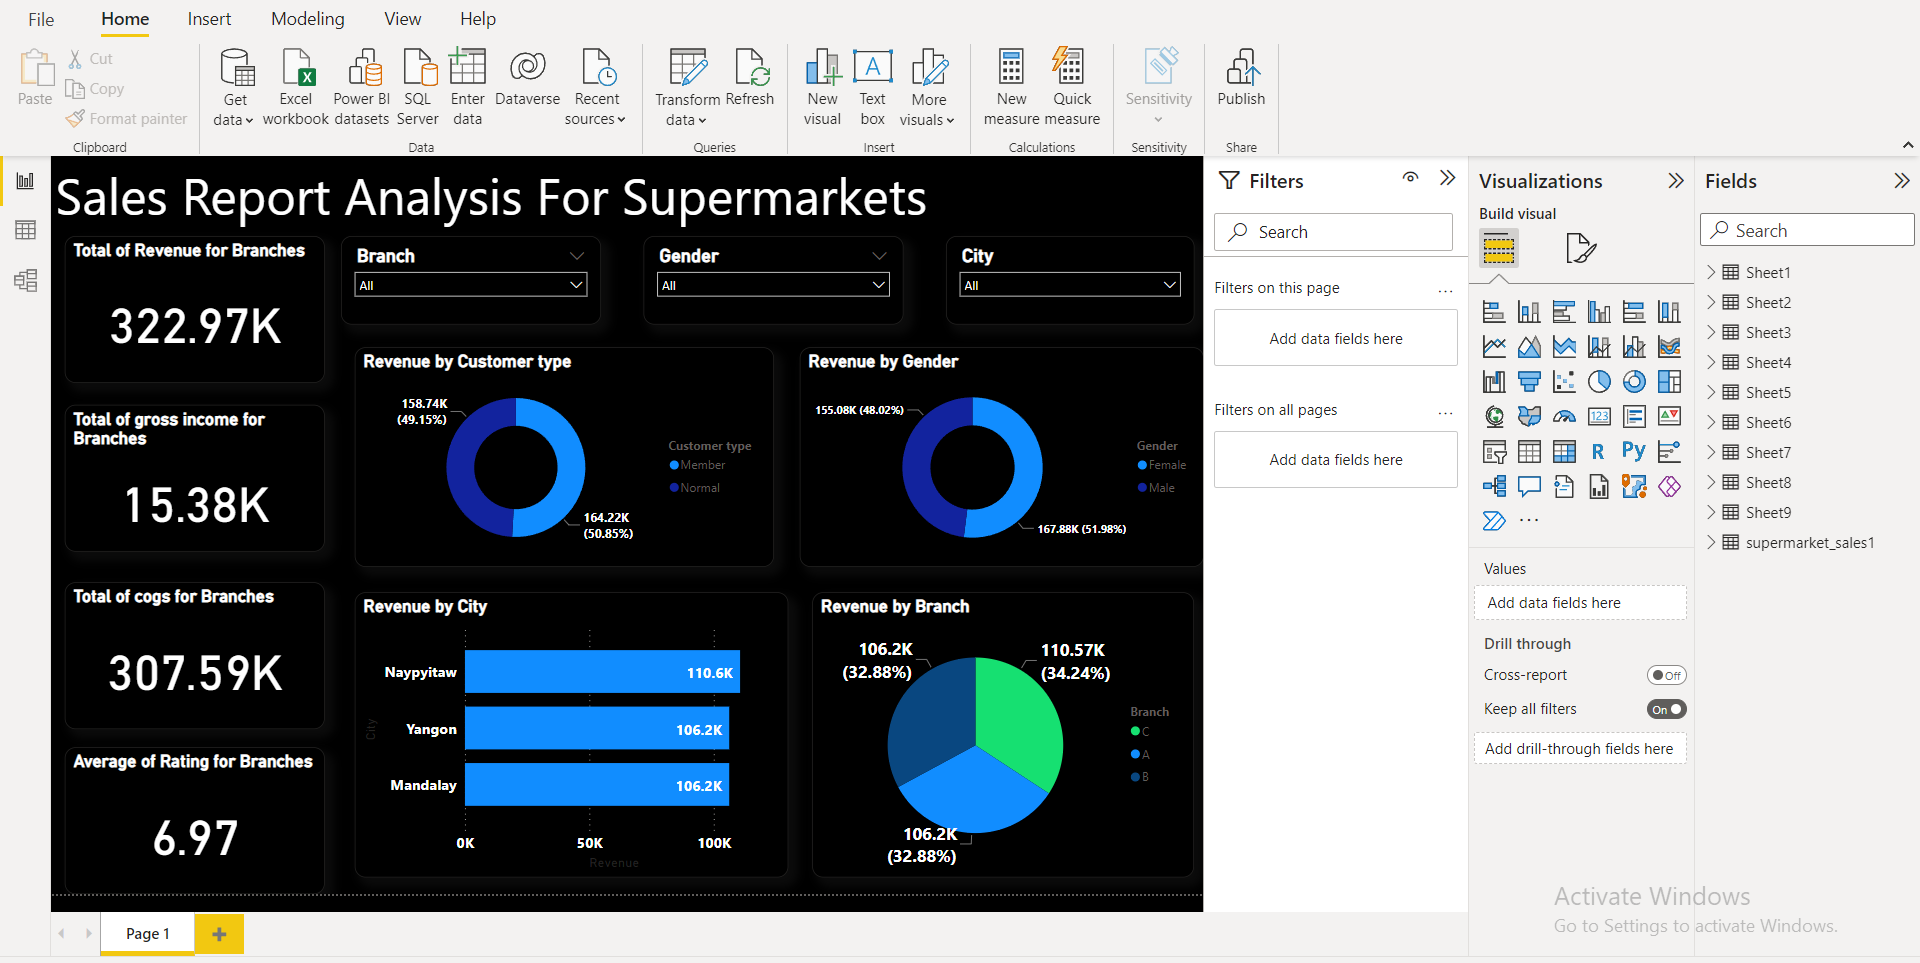

Layout of this report page (visuals, bound fields, positions):
{"tool":"powerbi","page":{"name":"Page 1","canvas":[1280,820],"ordinal":0},"visuals":[{"type":"textbox","box":[0,0,994.6,89.2],"z":0},{"type":"card","title":"Total of Revenue for Branches","fields":{"Values":["Sum(supermarket_sales1.Revenue)"]},"box":[15.1,89.3,288.4,163.5],"z":1000},{"type":"card","title":"Total of gross income for Branches","fields":{"Values":["Sum(supermarket_sales1.gross income)"]},"box":[15.1,276.1,288.4,163.5],"z":2000},{"type":"card","title":"Total of cogs for Branches","fields":{"Values":["Sum(supermarket_sales1.cogs)"]},"box":[15.1,473.9,288.4,163.5],"z":3000},{"type":"card","title":"Average of Rating for Branches","fields":{"Values":["Avg(supermarket_sales1.Rating)"]},"box":[15.1,656.5,288.4,163.5],"z":4000},{"type":"slicer","fields":{"Values":["supermarket_sales1.City"]},"box":[994.3,88.6,275.7,98.6],"z":5000},{"type":"slicer","fields":{"Values":["supermarket_sales1.Gender"]},"box":[658.6,88.6,288.6,98.6],"z":6000},{"type":"slicer","fields":{"Values":["supermarket_sales1.Branch"]},"box":[321.4,88.6,288.6,98.6],"z":7000},{"type":"pieChart","fields":{"Category":["supermarket_sales1.Branch"],"Y":["Sum(supermarket_sales1.Revenue)"]},"box":[845.7,484.3,424.3,317.1],"z":8000},{"type":"barChart","fields":{"Category":["supermarket_sales1.City"],"Y":["Sum(supermarket_sales1.Revenue)"]},"box":[337.1,484.3,481.4,317.1],"z":9000},{"type":"donutChart","fields":{"Y":["Sum(supermarket_sales1.Revenue)"],"Category":["supermarket_sales1.Gender"]},"box":[831.4,212.9,448.6,244.3],"z":10000},{"type":"donutChart","fields":{"Y":["Sum(supermarket_sales1.Revenue)"],"Category":["supermarket_sales1.Customer type"]},"box":[337.1,212.9,465.7,244.3],"z":11000}]}

Visuals, with their boxes on the page's 1280x820 design canvas (x1, y1, x2, y2). These are canvas units, not pixel positions in the 1920x963 screenshot, which may show the page scaled, cropped or inside an application window:
textbox: 0, 0, 995, 89
"Total of Revenue for Branches" card: 15, 89, 304, 253
"Total of gross income for Branches" card: 15, 276, 304, 440
"Total of cogs for Branches" card: 15, 474, 304, 637
"Average of Rating for Branches" card: 15, 656, 304, 820
slicer - supermarket_sales1.City: 994, 89, 1270, 187
slicer - supermarket_sales1.Gender: 659, 89, 947, 187
slicer - supermarket_sales1.Branch: 321, 89, 610, 187
pieChart - supermarket_sales1.Branch x Sum(supermarket_sales1.Revenue): 846, 484, 1270, 801
barChart - supermarket_sales1.City x Sum(supermarket_sales1.Revenue): 337, 484, 818, 801
donutChart - Sum(supermarket_sales1.Revenue) x supermarket_sales1.Gender: 831, 213, 1280, 457
donutChart - Sum(supermarket_sales1.Revenue) x supermarket_sales1.Customer type: 337, 213, 803, 457
